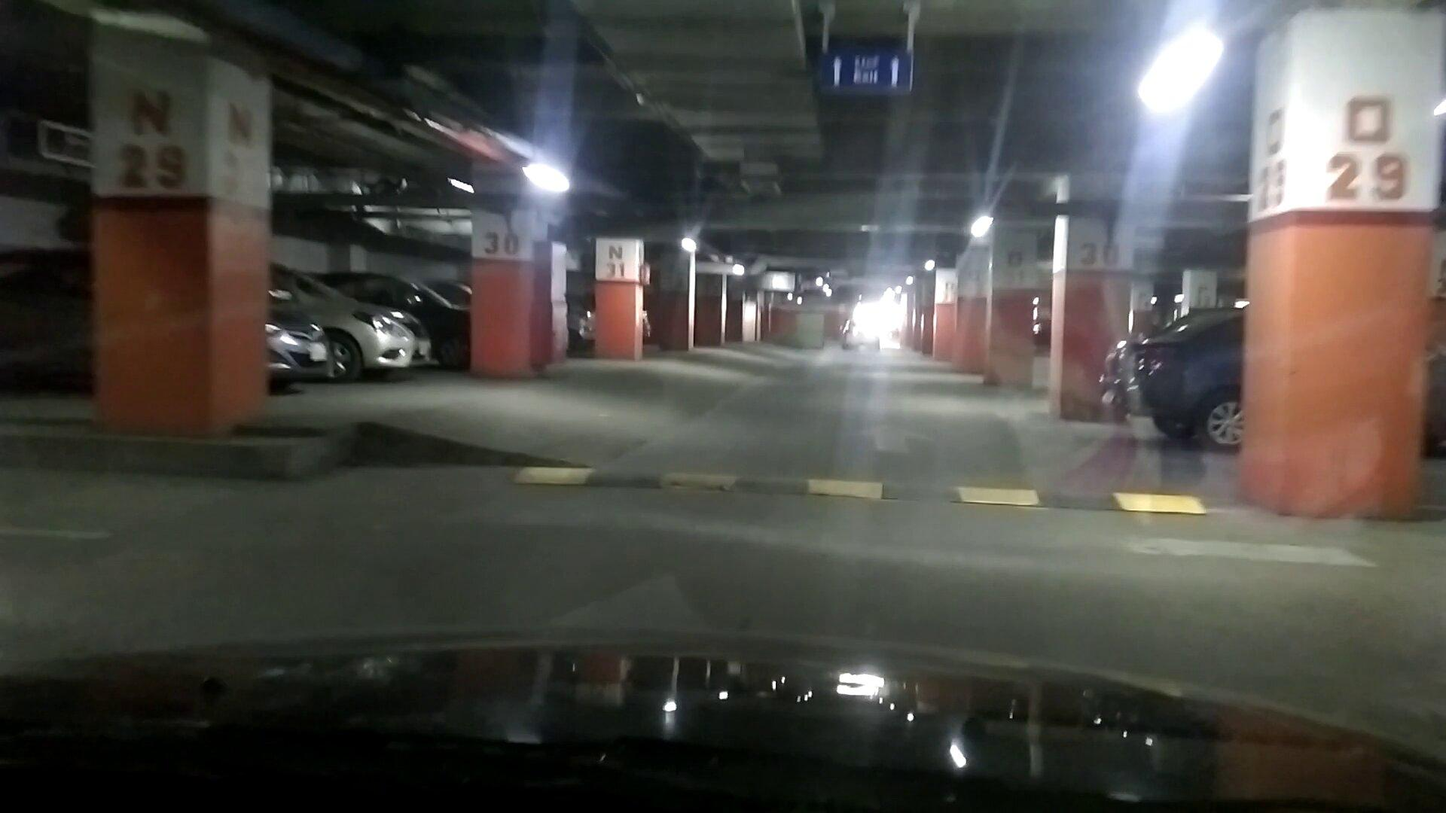Bump: (535, 454, 1213, 527)
